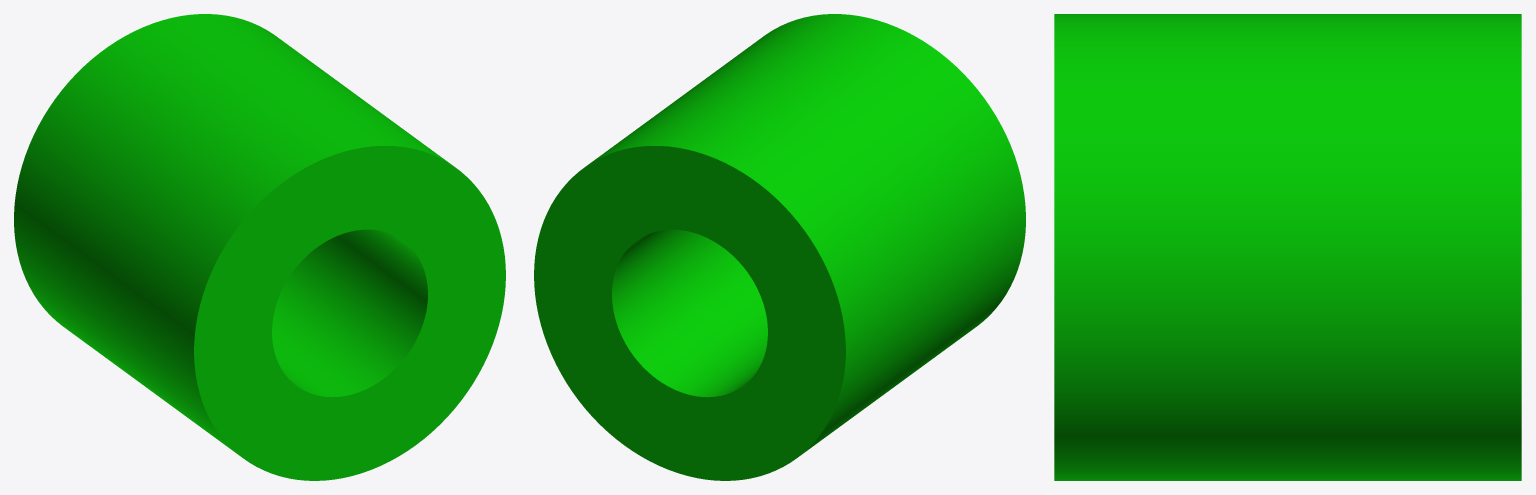
File: assembly.glb
3 views of the same model, side by side, from view 1: azimuth 30°, elevation 25°; view 2: azimuth 150°, elevation 25°; view 3: azimuth 270°, elevation 25° (orthographic). The views are drawn at different scales.
Parts seen in each view (by area): view 1: spacer-10x5x10/body; view 2: spacer-10x5x10/body; view 3: spacer-10x5x10/body.
Boxes of the visible parts, x1=… form: spacer-10x5x10/body: x1=14, y1=14, x2=505, y2=480; spacer-10x5x10/body: x1=534, y1=14, x2=1025, y2=480; spacer-10x5x10/body: x1=1054, y1=14, x2=1521, y2=480.
Size of the model in its own units: 0.01 by 0.01 by 0.01.
